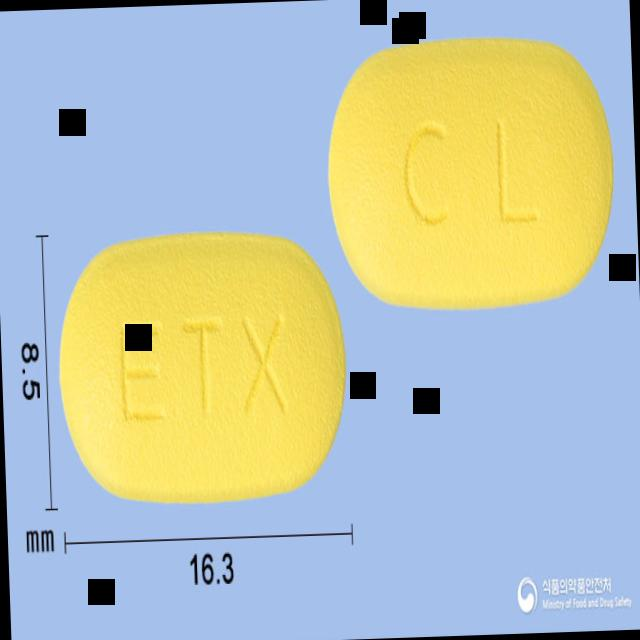Cefixime Cap: (54, 228, 350, 506), (324, 32, 617, 312)
